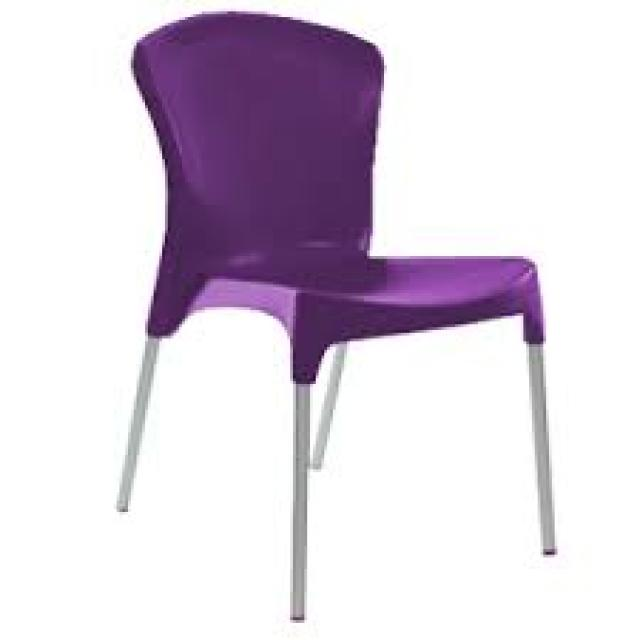chair: (31, 2, 639, 640)
